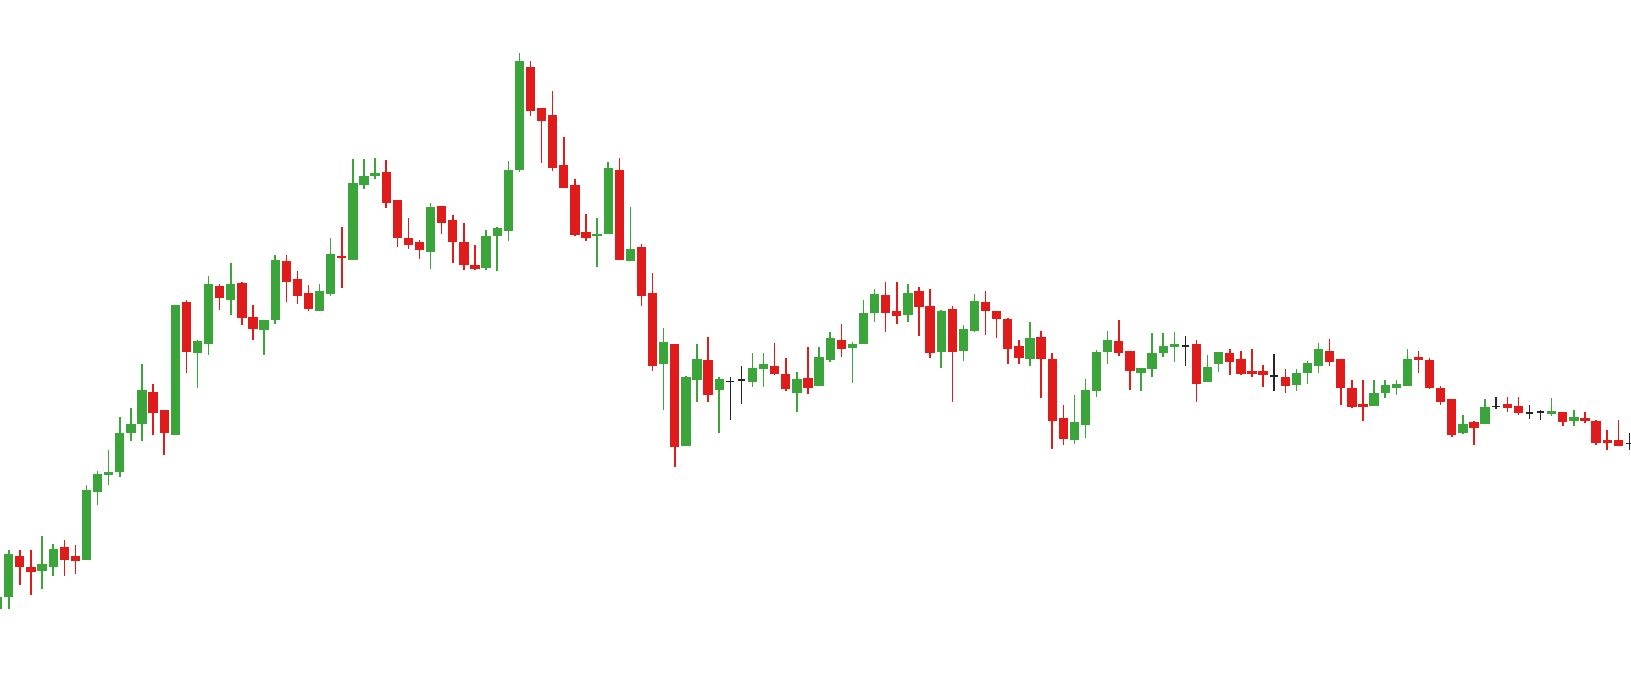buy: (943, 331, 1092, 453)
sell: (370, 50, 560, 206)
